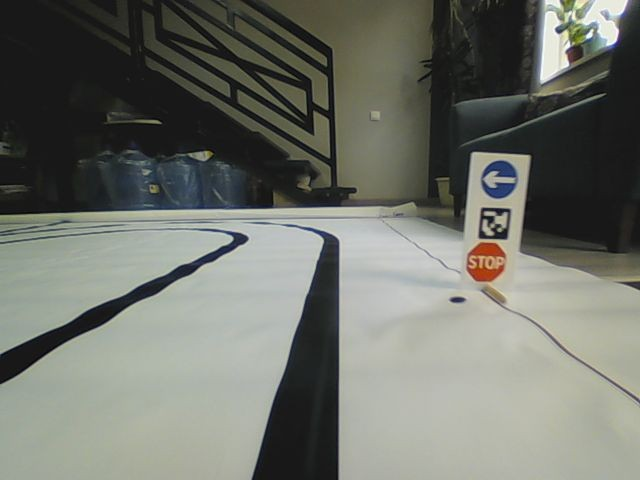Stop: (465, 240, 507, 284)
